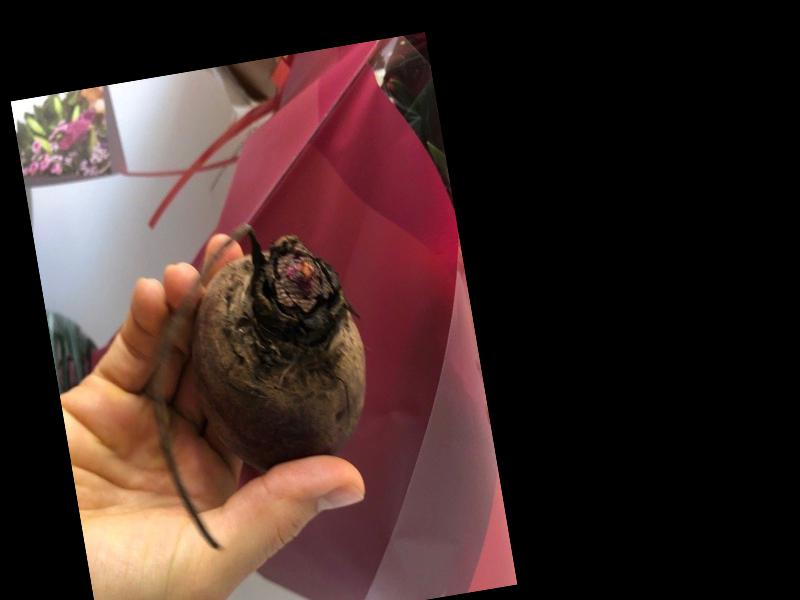Beet: (128, 205, 392, 557)
